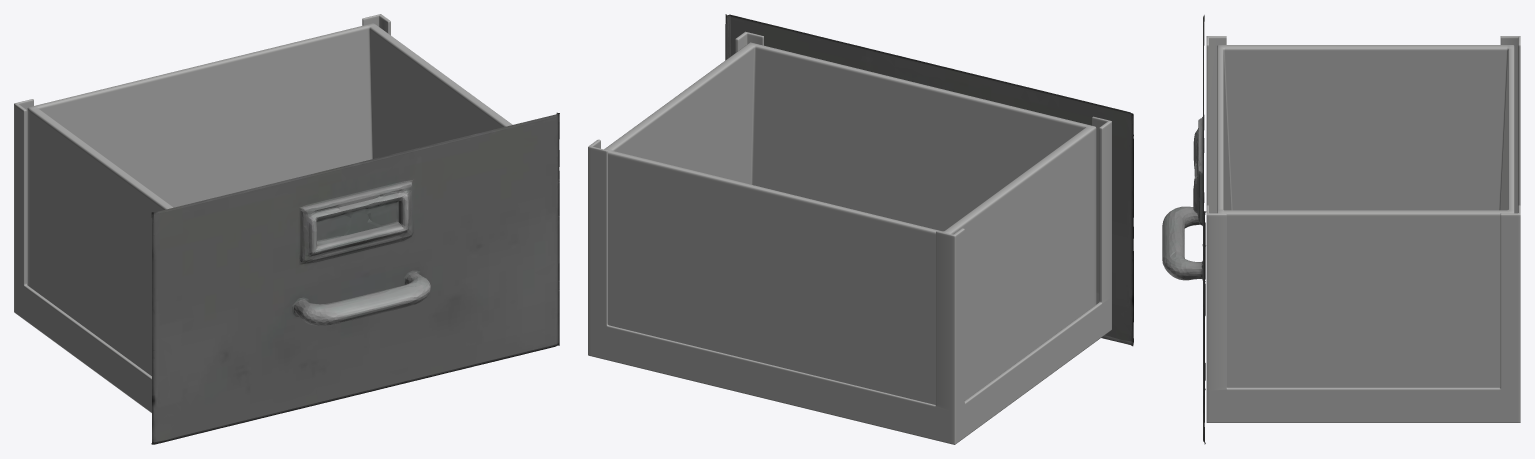
File: drawer_bottom.glb
3 views of the same model, side by side, from view 1: azimuth 30°, elevation 25°; view 2: azimuth 150°, elevation 25°; view 3: azimuth 270°, elevation 25° (orthographic).
Visible parts, largest first — view 1: source_front_cap_0, prefab_drawer_body_3; view 2: prefab_drawer_body_3, source_front_cap_0; view 3: prefab_drawer_body_3, source_front_cap_0.
Boxes of the visible parts, x1,y1,x2,y2 form: source_front_cap_0: [151, 112, 559, 444]; prefab_drawer_body_3: [14, 14, 512, 412]; prefab_drawer_body_3: [588, 31, 1111, 444]; source_front_cap_0: [725, 14, 1133, 346]; prefab_drawer_body_3: [1206, 36, 1520, 422]; source_front_cap_0: [1162, 15, 1206, 444].
Bounding box in the file's own units: 0.9256 × 0.5042 × 0.7057.
2 materials, 1 textured.
